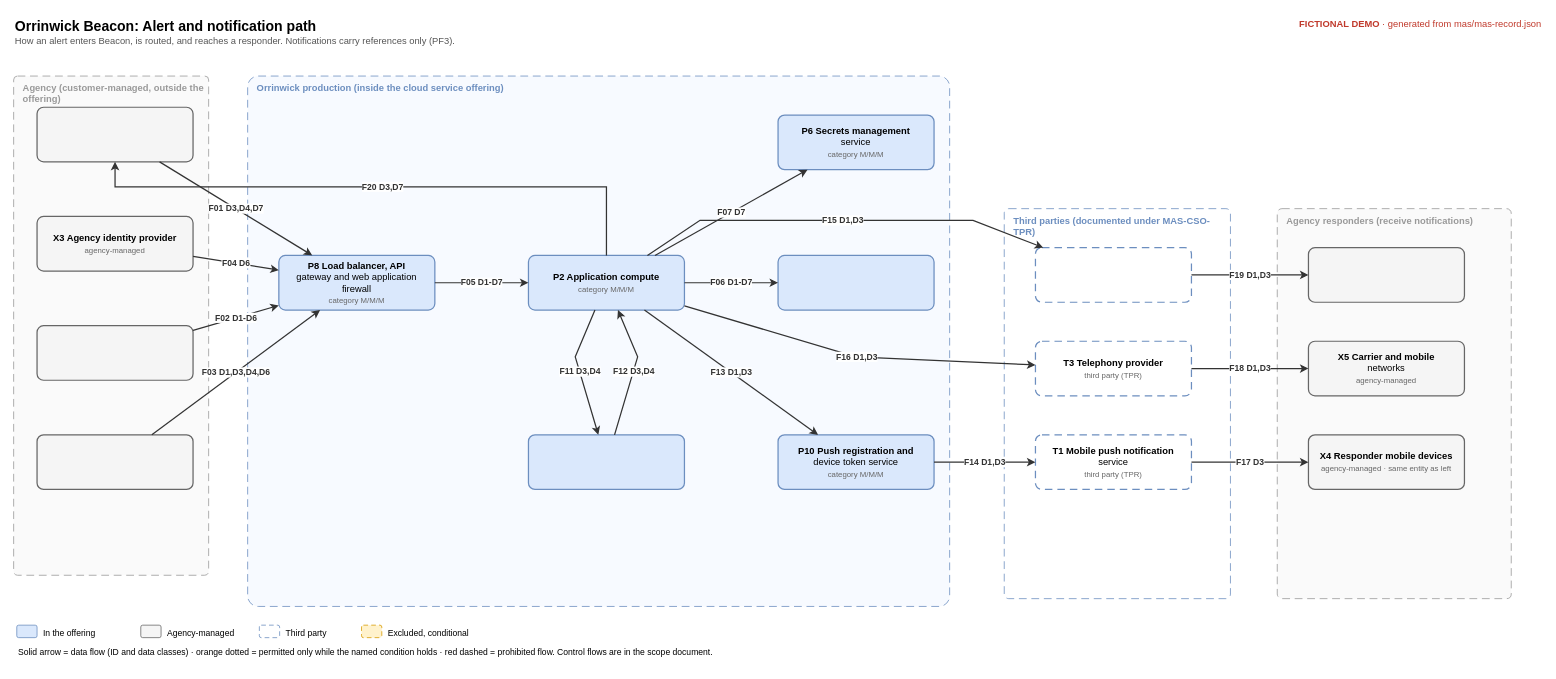
The diagram is 1556 pixels wide and 679 high, and some of its shapes have lost their labels. Each missing label, with the centre of its shape:
P3 Managed relational database category M/M/M: point (855, 282)
P7 Message queue and job scheduler category M/M/M: point (606, 462)
T2 Transactional email delivery service third party (TPR): point (1113, 274)
X1 Agency responders and administrators agency-managed: point (114, 352)
X1 Agency responders and administrators agency-managed · same entity as left: point (1386, 274)
X2 Agency integration tools agency-managed: point (114, 134)
X4 Responder mobile devices agency-managed: point (114, 462)
